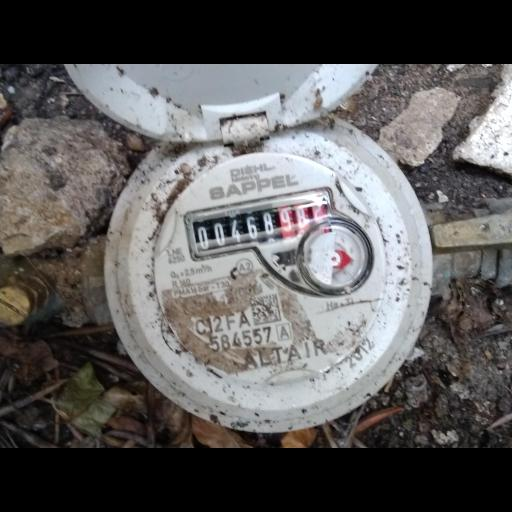0: (193, 220, 214, 255), (209, 217, 229, 250)
2: (310, 198, 328, 222)
4: (227, 213, 248, 247)
6: (242, 210, 264, 244)
8: (294, 202, 313, 235), (260, 208, 279, 240)
9: (278, 204, 297, 240)
border_water_meter_number: (185, 185, 351, 259)
